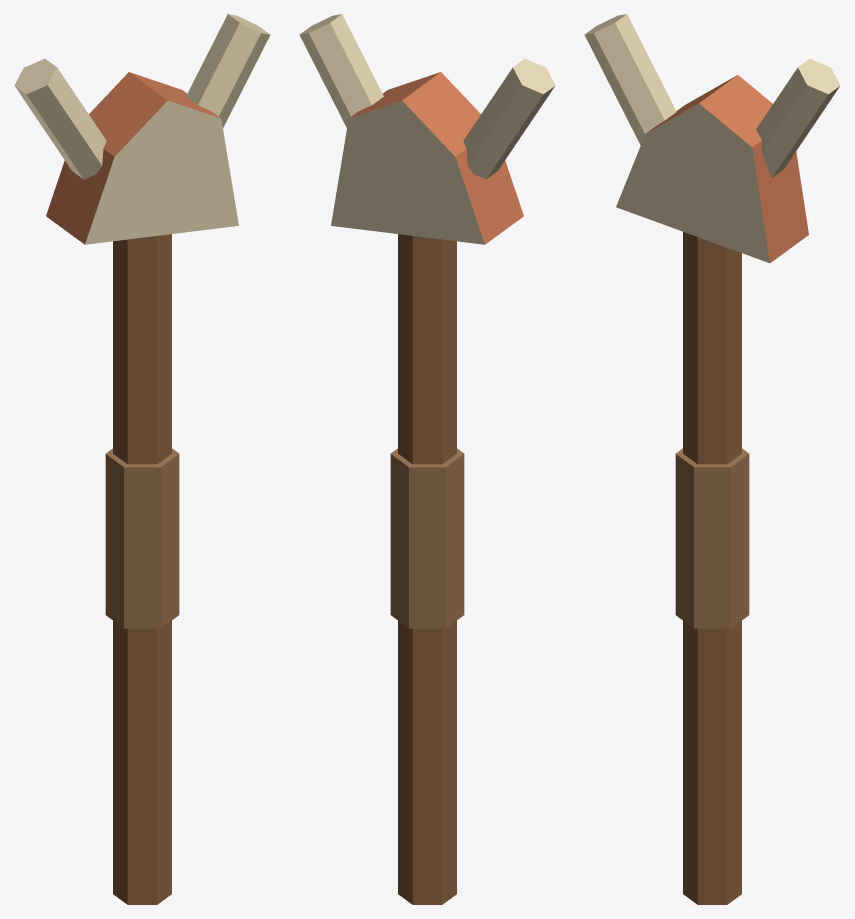
Rendered from spirit_staff.glb.
3 views of the same model, side by side, from view 1: azimuth 30°, elevation 25°; view 2: azimuth 150°, elevation 25°; view 3: azimuth 330°, elevation 25° (orthographic).
Visible parts, largest first — view 1: spirit_staff; view 2: spirit_staff; view 3: spirit_staff.
Part boxes in pixels (box(x1,y1,x2,y2)): spirit_staff: box(14, 14, 270, 904); spirit_staff: box(299, 14, 555, 904); spirit_staff: box(584, 14, 840, 904).
Bounding box in the file's own units: 0.4118 × 1.38 × 0.114.
